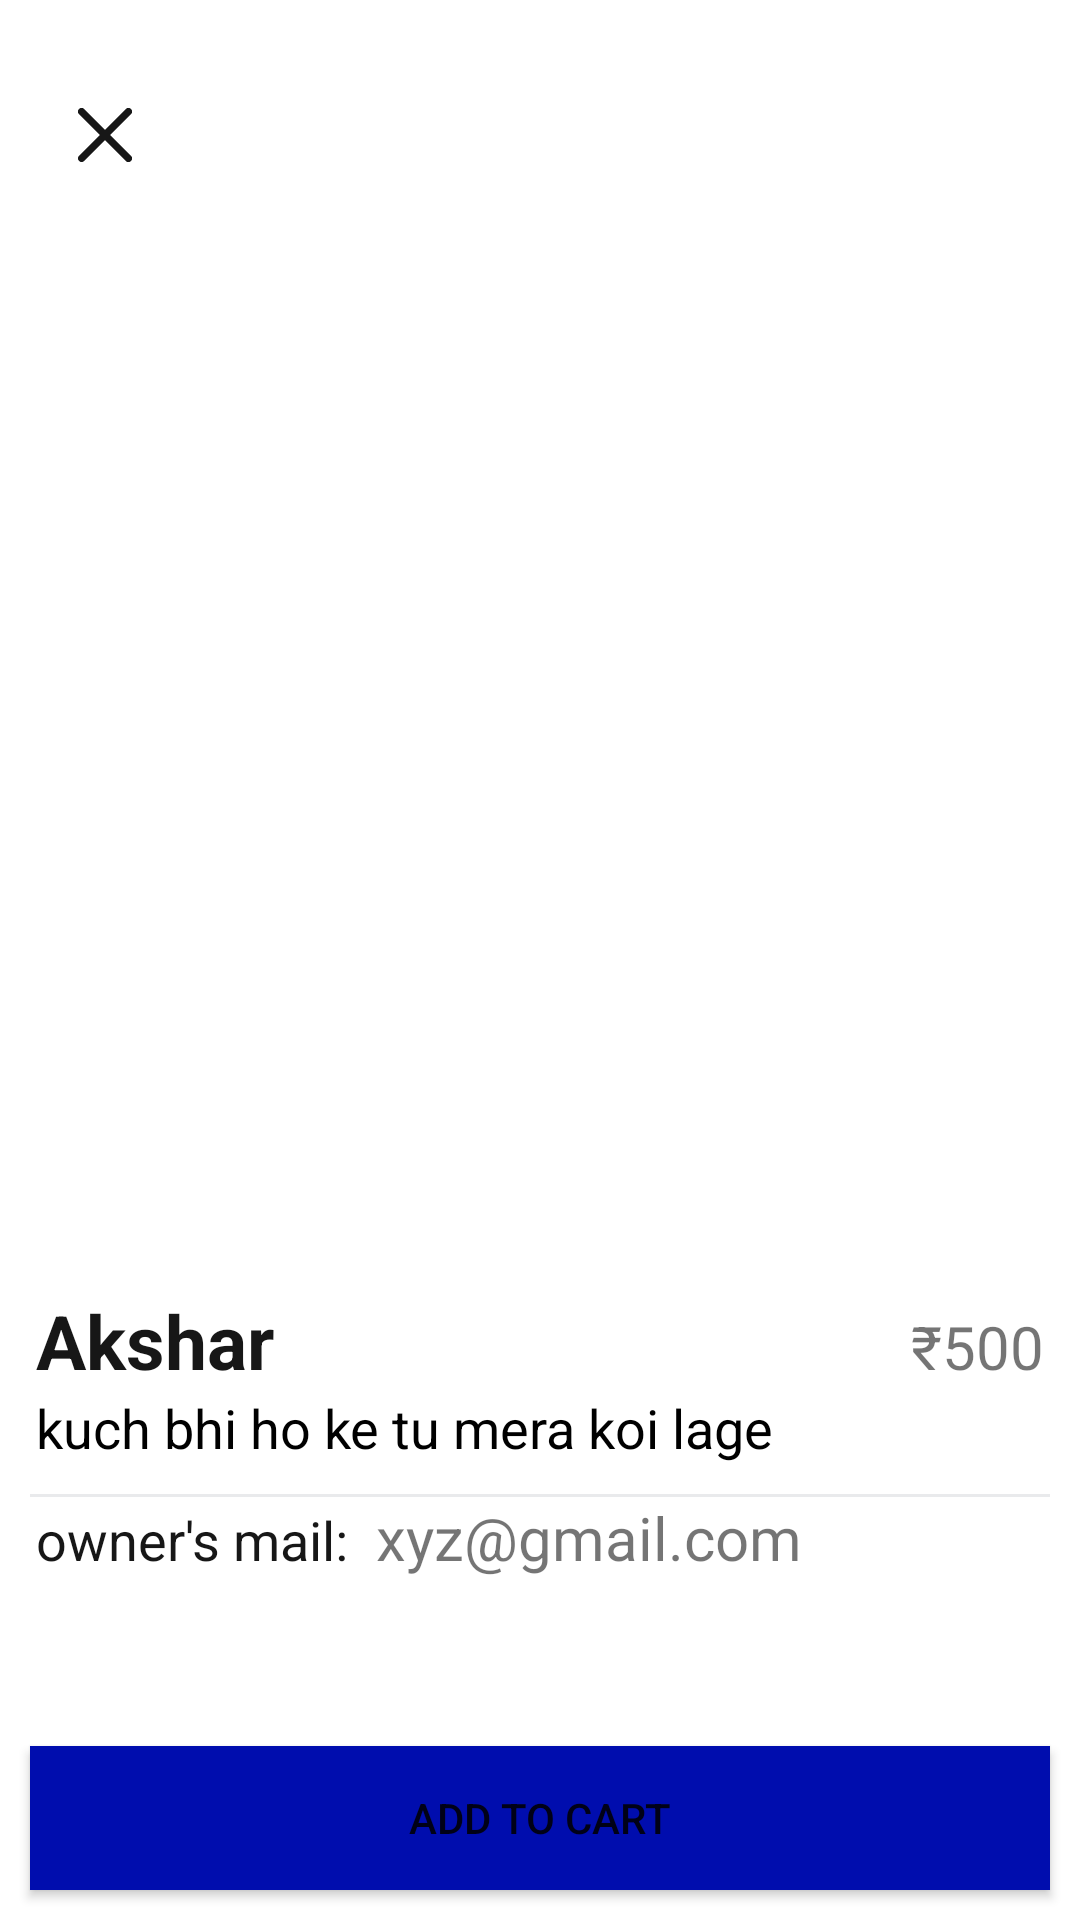

Where icons sit on this 1080 x 1920 app screen, as box=[x1, y1, x2, y2]:
close: box=[78, 108, 132, 162]
